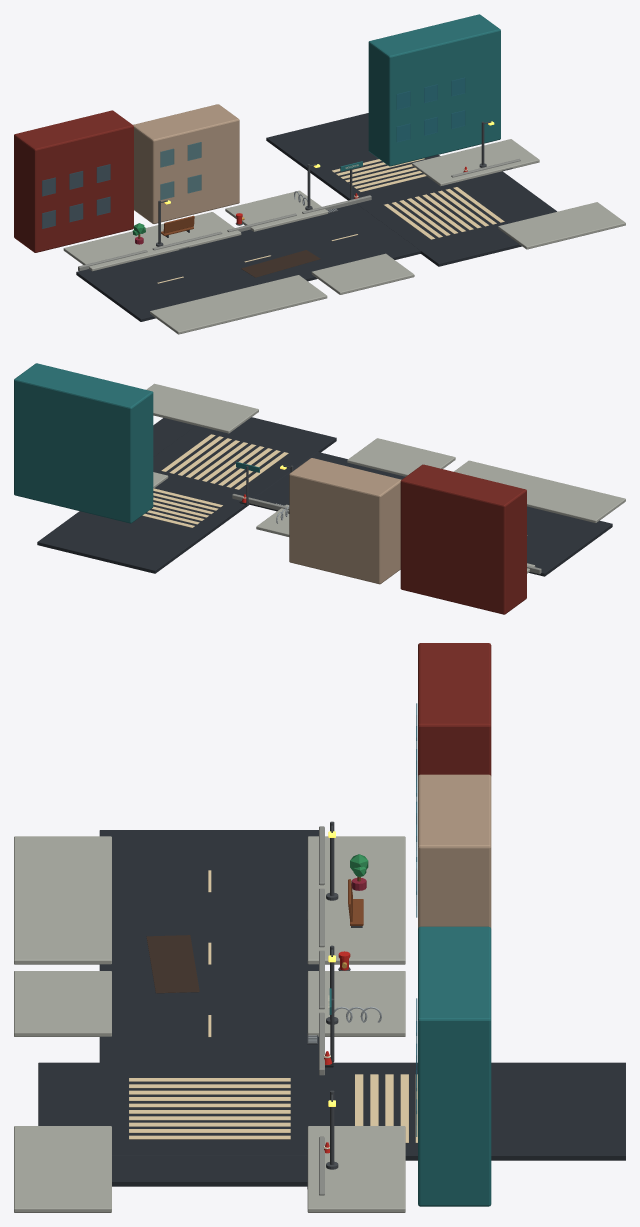
File: neighborhood_intersection_a.glb
3 renders of one model, top to bottom at view 1: azimuth 30°, elevation 25°; view 2: azimuth 150°, elevation 25°; view 3: azimuth 270°, elevation 25°, orthographic. The views are drawn at different scales.
Parts seen in each view (by area): view 1: RoadMain, BackgroundFacade_2, BackgroundFacade_0, RoadCross, BackgroundFacade_1, Sidewalk_2, Sidewalk_0, Sidewalk_5, Sidewalk_4, Sidewalk_3, Sidewalk_1, RoadPatch; view 2: BackgroundFacade_2, BackgroundFacade_0, RoadCross, BackgroundFacade_1, RoadMain, Sidewalk_2, Sidewalk_5, Sidewalk_3, Sidewalk_1; view 3: RoadMain, RoadCross, BackgroundFacade_2, Sidewalk_2, BackgroundFacade_1, Sidewalk_0, BackgroundFacade_0, Sidewalk_5, Sidewalk_4, Sidewalk_3, Sidewalk_1, RoadPatch (+6 smaller).
Boxes of the visible parts, x1=… form: RoadMain: x1=76, y1=171, x2=556, y2=321; BackgroundFacade_2: x1=368, y1=14, x2=500, y2=166; BackgroundFacade_0: x1=14, y1=110, x2=133, y2=252; RoadCross: x1=266, y1=113, x2=526, y2=266; BackgroundFacade_1: x1=133, y1=104, x2=239, y2=223; Sidewalk_2: x1=150, y1=275, x2=327, y2=334; Sidewalk_0: x1=63, y1=212, x2=241, y2=271; Sidewalk_5: x1=498, y1=202, x2=625, y2=249; Sidewalk_4: x1=412, y1=139, x2=539, y2=186; Sidewalk_3: x1=311, y1=253, x2=414, y2=294; Sidewalk_1: x1=225, y1=190, x2=328, y2=231; RoadPatch: x1=241, y1=250, x2=320, y2=277; BackgroundFacade_2: x1=14, y1=363, x2=153, y2=523; BackgroundFacade_0: x1=400, y1=464, x2=526, y2=614; RoadCross: x1=37, y1=417, x2=336, y2=573; BackgroundFacade_1: x1=289, y1=458, x2=401, y2=584; RoadMain: x1=153, y1=418, x2=612, y2=576; Sidewalk_2: x1=454, y1=460, x2=625, y2=522; Sidewalk_5: x1=146, y1=383, x2=258, y2=433; Sidewalk_3: x1=347, y1=438, x2=455, y2=476; Sidewalk_1: x1=256, y1=504, x2=289, y2=536; RoadMain: x1=99, y1=830, x2=318, y2=1186; RoadCross: x1=38, y1=1062, x2=625, y2=1160; BackgroundFacade_2: x1=418, y1=926, x2=491, y2=1206; Sidewalk_2: x1=14, y1=836, x2=111, y2=964; BackgroundFacade_1: x1=418, y1=774, x2=491, y2=928; Sidewalk_0: x1=307, y1=836, x2=405, y2=964; BackgroundFacade_0: x1=418, y1=643, x2=491, y2=775; Sidewalk_5: x1=14, y1=1126, x2=111, y2=1212; Sidewalk_4: x1=307, y1=1126, x2=405, y2=1212; Sidewalk_3: x1=14, y1=971, x2=111, y2=1036; Sidewalk_1: x1=307, y1=971, x2=405, y2=1036; RoadPatch: x1=146, y1=935, x2=199, y2=993.
Size of what is drawn, in the model's own units: 38 by 8.74 by 25.
